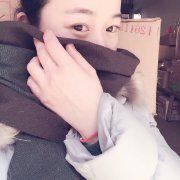WRONG: (44, 8, 122, 86)
